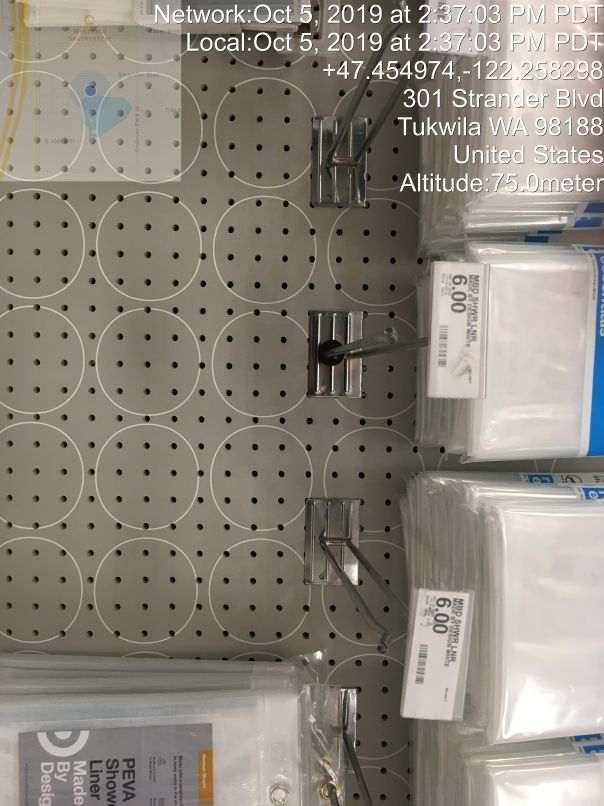Label: (421, 251, 494, 410), (399, 578, 473, 730)
Location: (393, 84, 604, 172)
Time: (151, 2, 604, 57)
Void: (6, 19, 343, 650)
